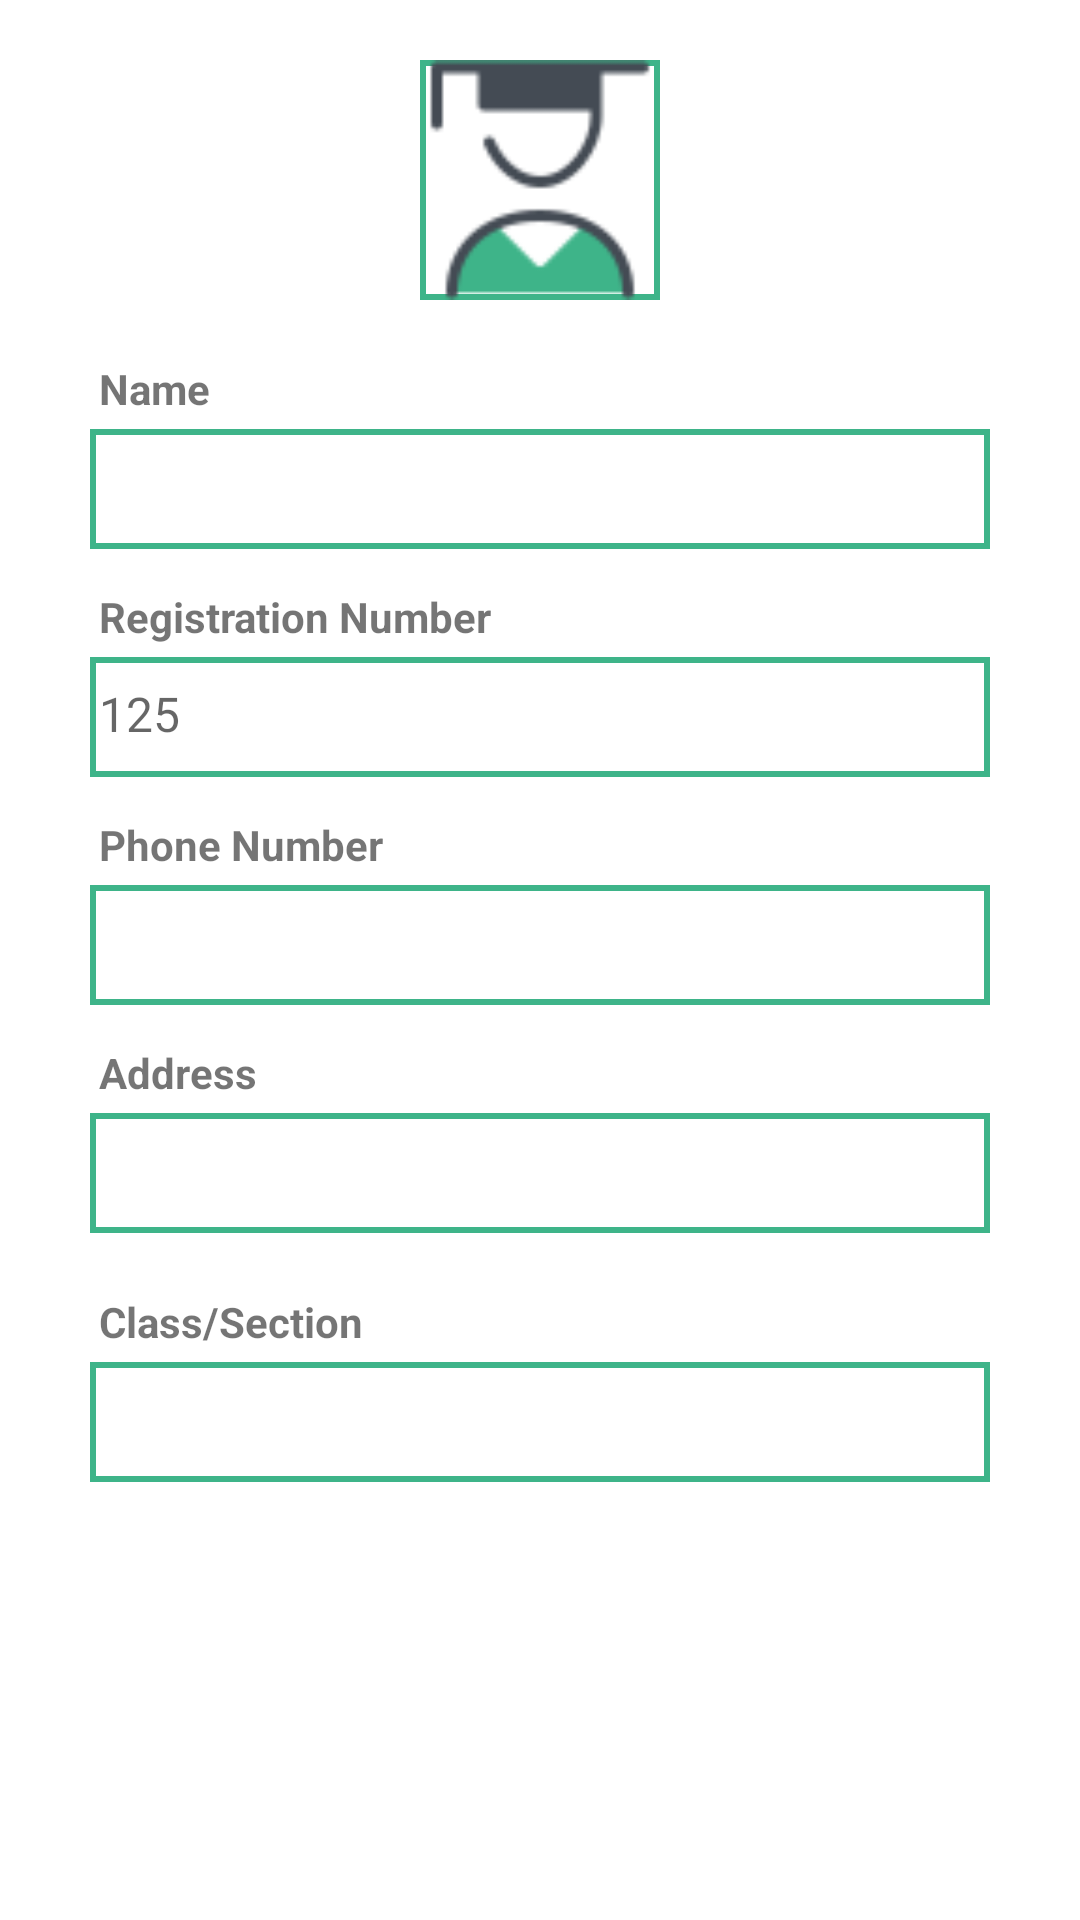

Named icons in this screenshot (1080w x 1920h) and their centers, point (x, y):
student: point (540, 180)
